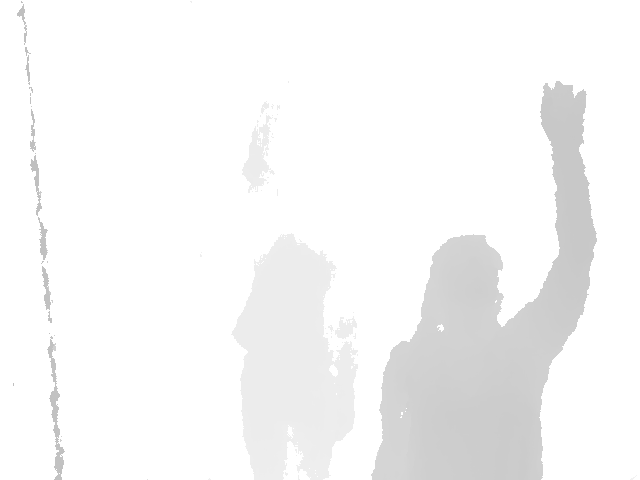hand: (539, 81, 587, 152)
head: (419, 233, 505, 344)
person: (369, 81, 598, 480)
